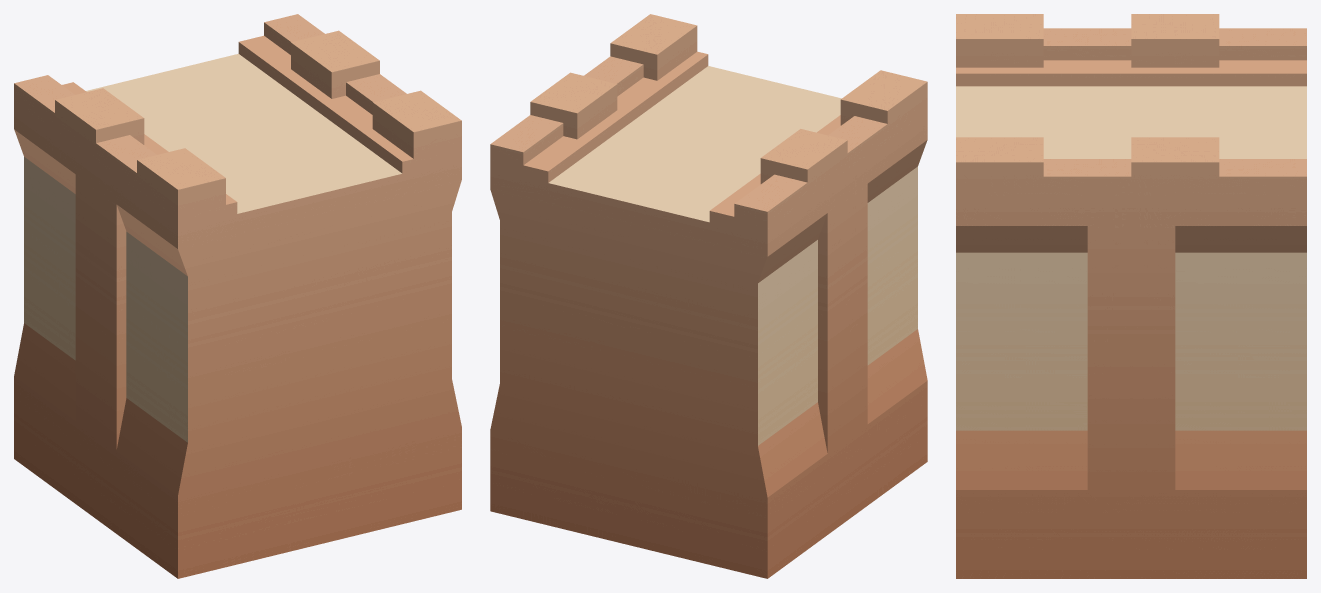
Rendered from wall-pillar.glb.
3 renders of one model, left to right at view 1: azimuth 30°, elevation 25°; view 2: azimuth 150°, elevation 25°; view 3: azimuth 270°, elevation 25°, orthographic. The views are drawn at different scales.
Visible parts, largest first — view 1: wall-pillar; view 2: wall-pillar; view 3: wall-pillar.
Part boxes in pixels (x1,y1,x2,y2): wall-pillar: (14,14,461,578); wall-pillar: (490,14,927,578); wall-pillar: (956,14,1306,578).
Size of the model in its own units: 1 by 1.31 by 1.
Materials: 1 (1 with a texture image).
